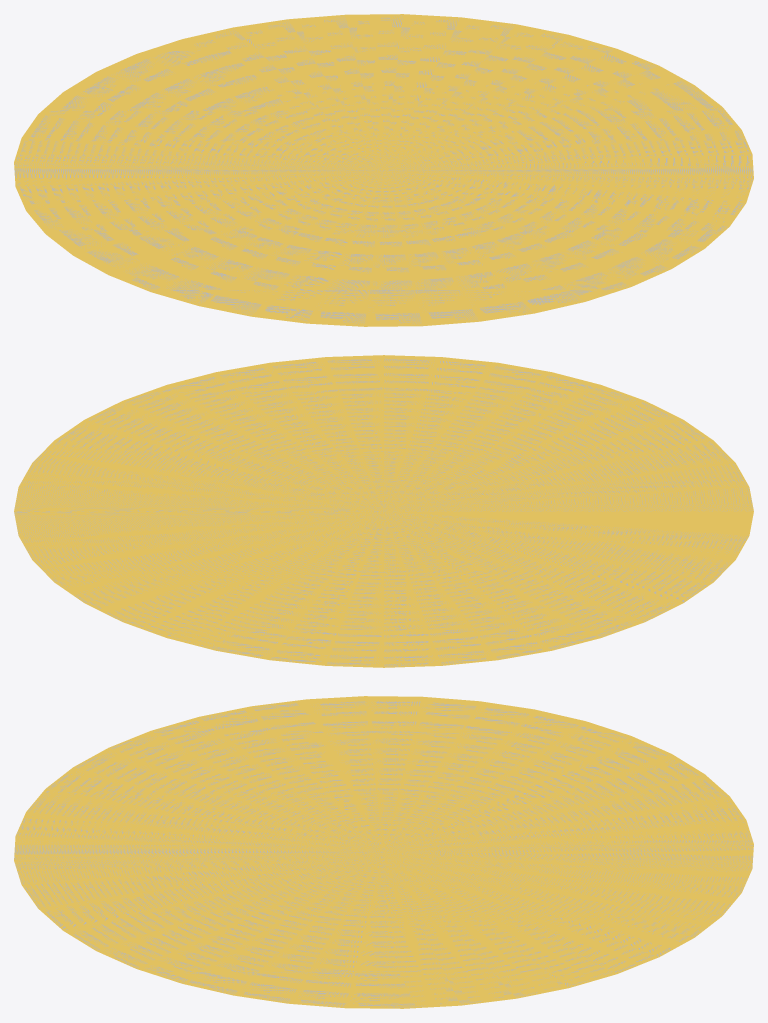
File: original-27.obj
The picture shows the model from 3 angles, top to bottom: view 1: azimuth 30°, elevation 25°; view 2: azimuth 150°, elevation 25°; view 3: azimuth 270°, elevation 25°; orthographic projection.
Parts seen in each view (by area): view 1: #ID211; view 2: #ID211; view 3: #ID211.
Part boxes in pixels (left/top/right/bottom): #ID211: left=14, top=14, right=753, bottom=326; #ID211: left=14, top=355, right=753, bottom=667; #ID211: left=14, top=696, right=753, bottom=1008.
Size of the model in its own units: 0.6862 by 0 by 0.6862.
